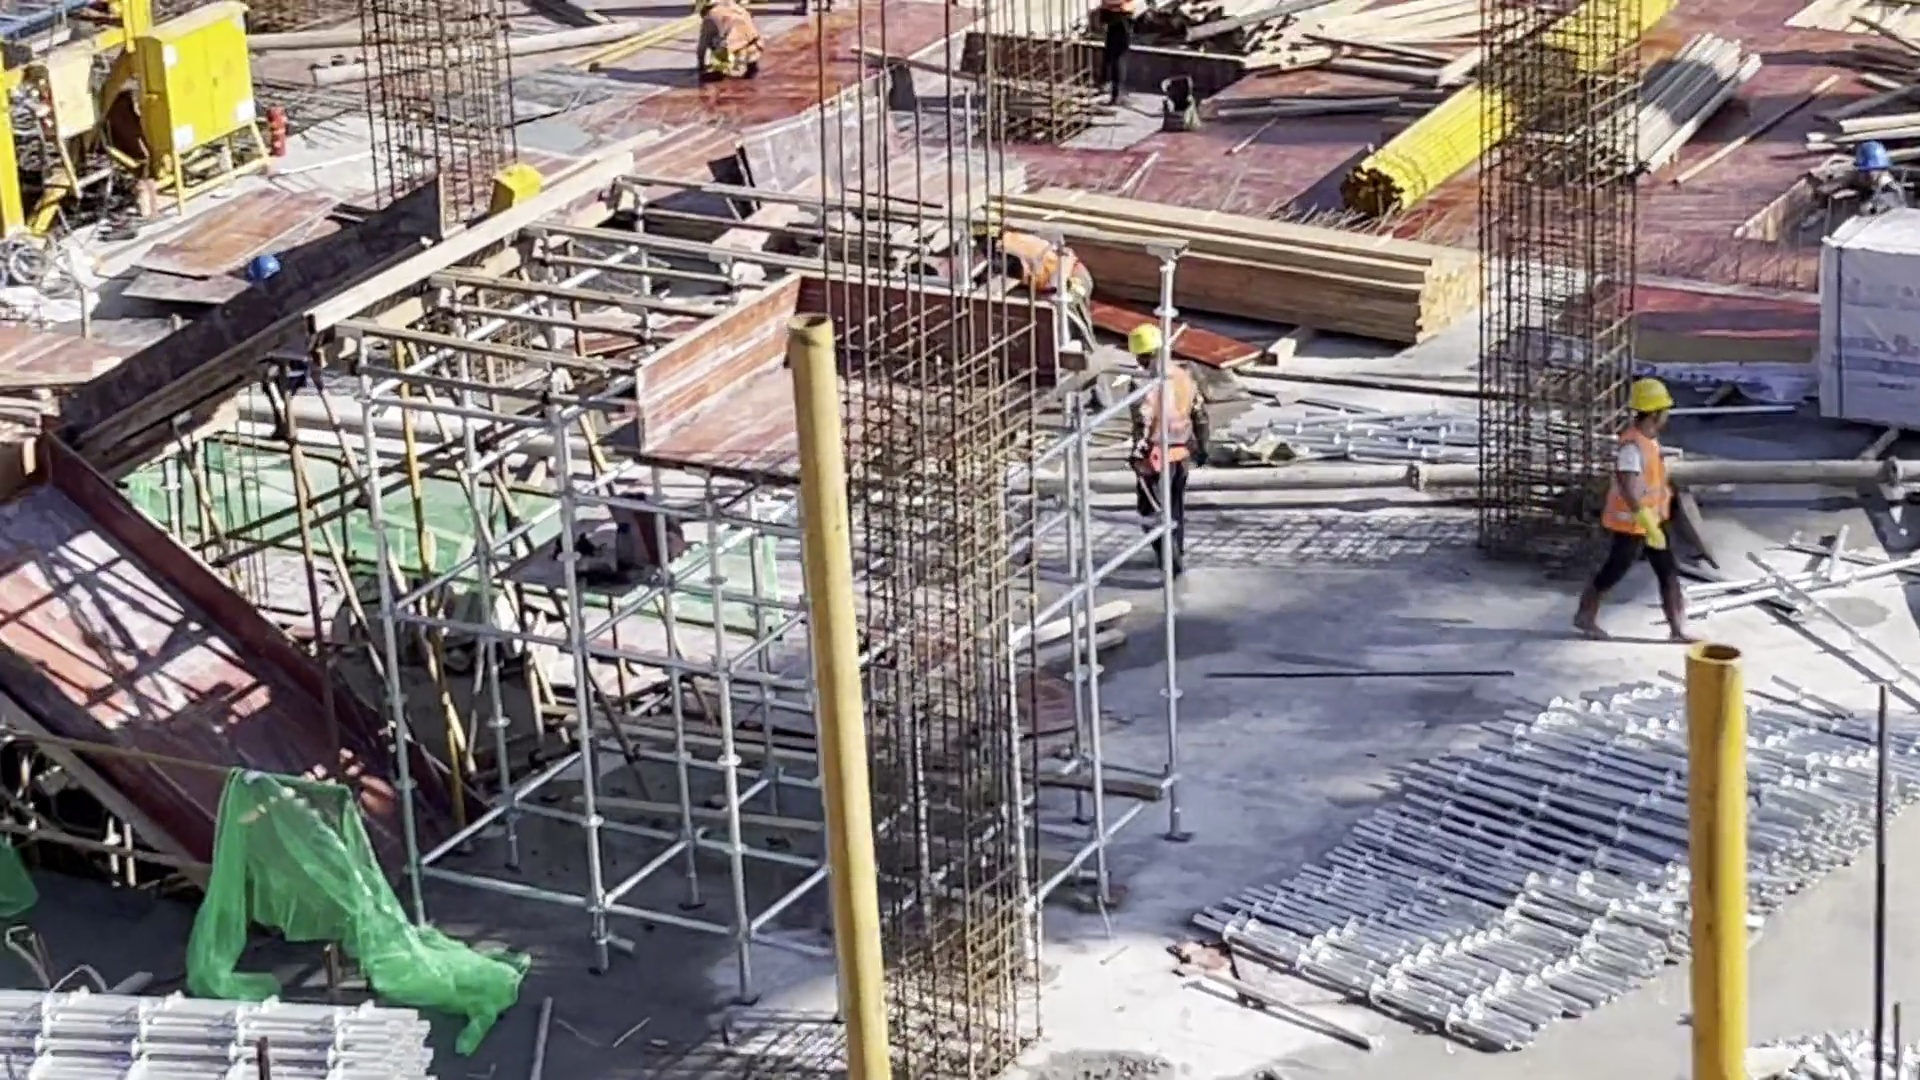helmet: (1619, 375, 1675, 412), (1131, 326, 1164, 356), (244, 251, 278, 277)
person: (1581, 372, 1692, 649), (1126, 326, 1203, 565), (981, 225, 1093, 348), (688, 1, 766, 88)
vest: (1599, 429, 1671, 539), (1135, 369, 1193, 476), (999, 230, 1085, 299), (699, 1, 765, 65)
